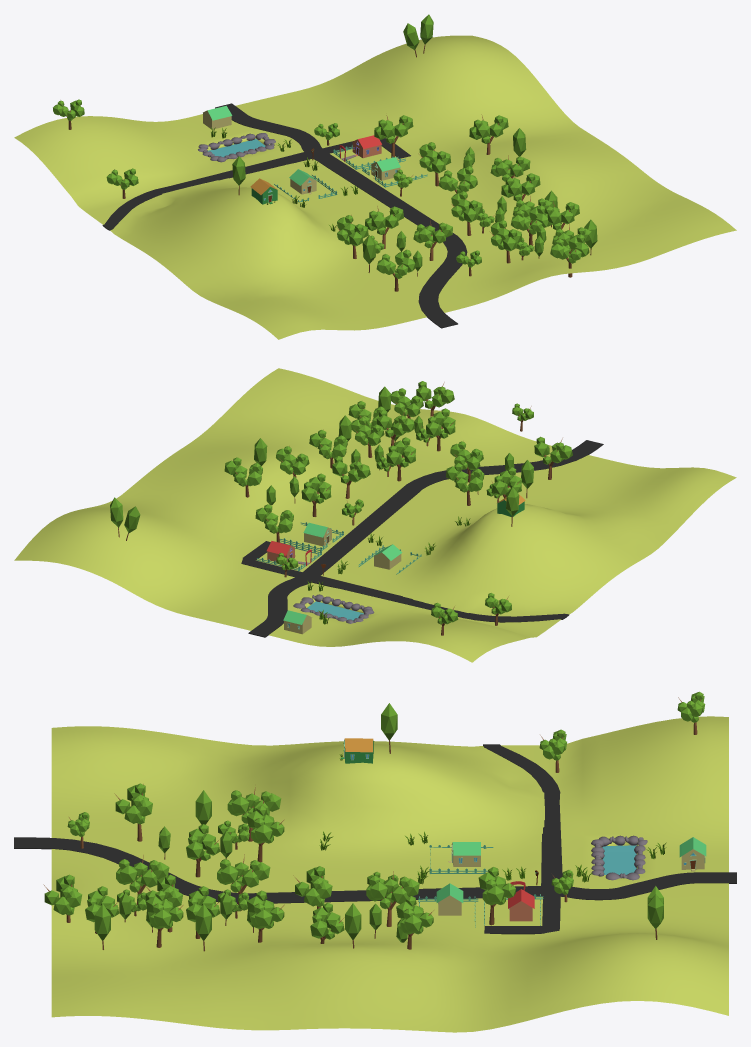
Rendered from Free Cartoon Land 2.dae.
The picture shows the model from 3 angles, top to bottom: view 1: azimuth 30°, elevation 25°; view 2: azimuth 150°, elevation 25°; view 3: azimuth 270°, elevation 25°; orthographic projection. The views are drawn at different scales.
Parts seen in each view (by area): view 1: Landscape, Road, Rock, Tree_Leaf_008, Tree_Leaf_018, Tree_Leaf, Tree_Leaf_011, Tree_Leaf_024, Tree_Leaf_012, Tree_Leaf_022, Tree_Leaf_017, Tree_Leaf_004 (+8 smaller); view 2: Landscape, Road, Rock, Tree_Leaf_004, Tree_Leaf_024, Tree_Leaf, Tree_Leaf_014, Tree_Leaf_021, Tree_Leaf_008, Tree_Leaf_012, Tree_Leaf_017, Tree_Leaf_022 (+11 smaller); view 3: Landscape, Road, Rock, Tree_Leaf_022, Tree_Leaf_012, Tree_Leaf_017, Tree_Leaf_008, Tree_Leaf_007, Tree_Leaf, Tree_Leaf_015, Tree_Leaf_004, Tree_Leaf_018 (+17 smaller).
Boxes of the visible parts, x1,y1,x2,y2 form: Landscape: (14,35,736,339); Road: (102,103,467,328); Rock: (198,133,275,162); Tree_Leaf_008: (376,249,415,291); Tree_Leaf_018: (550,234,589,277); Tree_Leaf: (374,115,413,157); Tree_Leaf_011: (511,205,548,245); Tree_Leaf_024: (469,114,508,154); Tree_Leaf_012: (451,191,482,235); Tree_Leaf_022: (418,142,451,186); Tree_Leaf_017: (489,220,522,263); Tree_Leaf_004: (365,206,403,248); Landscape: (14,368,736,662); Road: (241,440,603,637); Rock: (293,594,374,623); Tree_Leaf_004: (446,463,484,505); Tree_Leaf_024: (224,457,262,497); Tree_Leaf: (255,504,293,542); Tree_Leaf_014: (309,429,347,468); Tree_Leaf_021: (332,456,370,498); Tree_Leaf_008: (534,436,572,479); Tree_Leaf_012: (386,437,415,481); Tree_Leaf_017: (426,408,455,451); Tree_Leaf_022: (301,473,331,516); Landscape: (51,716,728,1032); Road: (14,744,736,934); Rock: (591,835,647,880); Tree_Leaf_022: (366,871,419,926); Tree_Leaf_012: (217,854,270,911); Tree_Leaf_017: (116,855,169,904); Tree_Leaf_008: (114,783,152,841); Tree_Leaf_007: (227,787,281,841); Tree_Leaf: (478,867,516,925); Tree_Leaf_015: (146,890,183,947); Tree_Leaf_004: (247,805,284,862); Tree_Leaf_018: (43,874,82,922).
Bounding box in the file's own units: 70.18 × 74.69 × 12.52.
